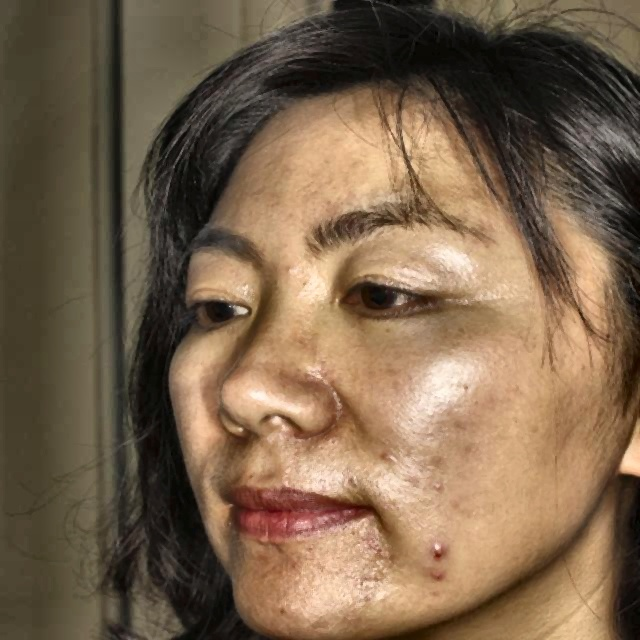comedone: (420, 538, 451, 592)
